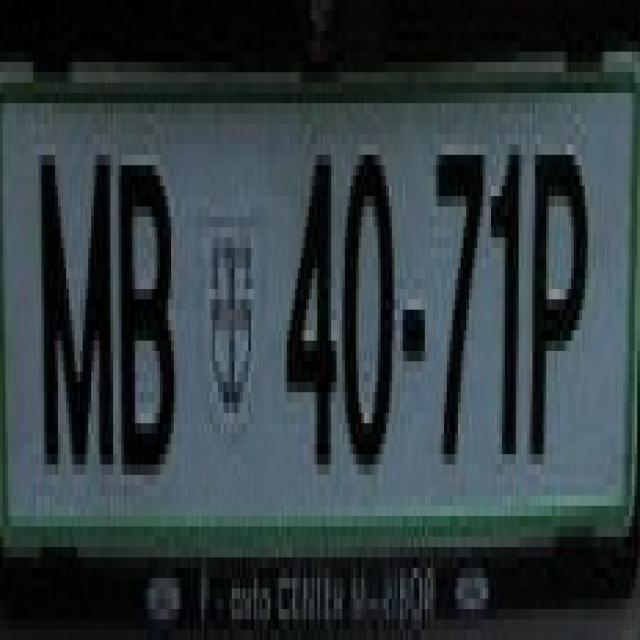0: (340, 134, 394, 464)
1: (486, 113, 522, 474)
4: (282, 134, 340, 474)
7: (428, 134, 482, 474)
B: (116, 144, 182, 474)
M: (33, 123, 113, 464)
P: (526, 113, 590, 474)
